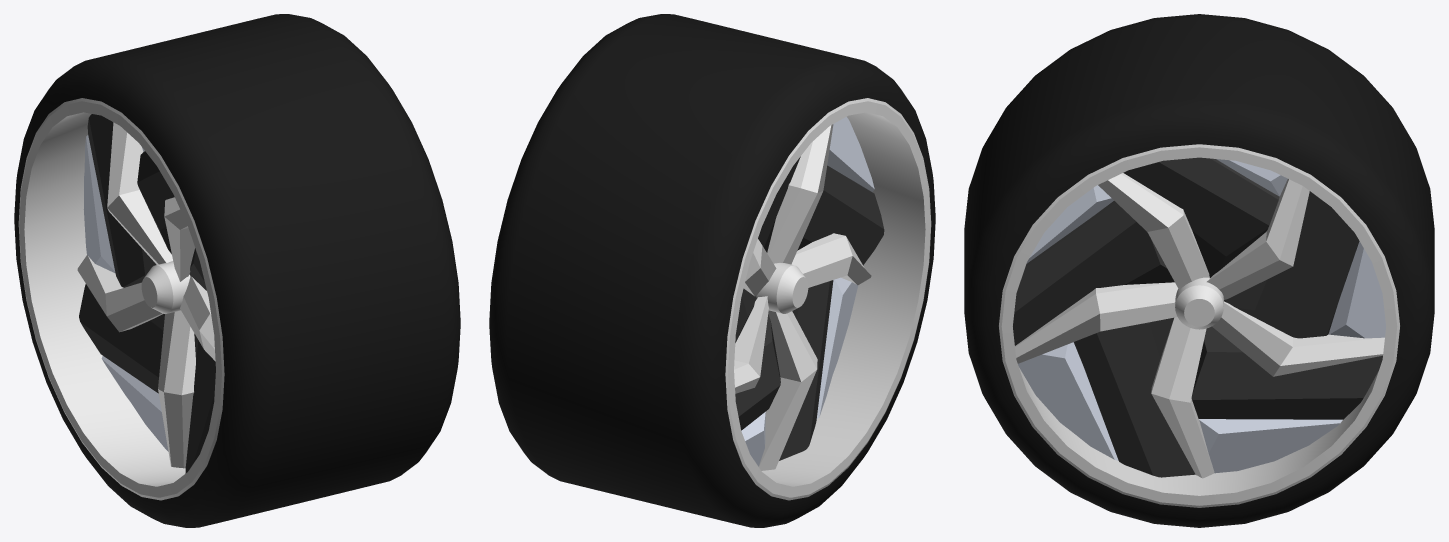
The model's file is Wheel.glb.
3 views of the same model, side by side, from view 1: azimuth 30°, elevation 25°; view 2: azimuth 150°, elevation 25°; view 3: azimuth 270°, elevation 25° (orthographic). The views are drawn at different scales.
Visible parts, largest first — view 1: wheel; view 2: wheel; view 3: wheel.
Boxes of the visible parts, x1,y1,x2,y2 form: wheel: (14, 14, 460, 527); wheel: (489, 14, 935, 527); wheel: (964, 14, 1434, 527).
Bounding box in the file's own units: 0.33 × 0.5885 × 0.5885.
